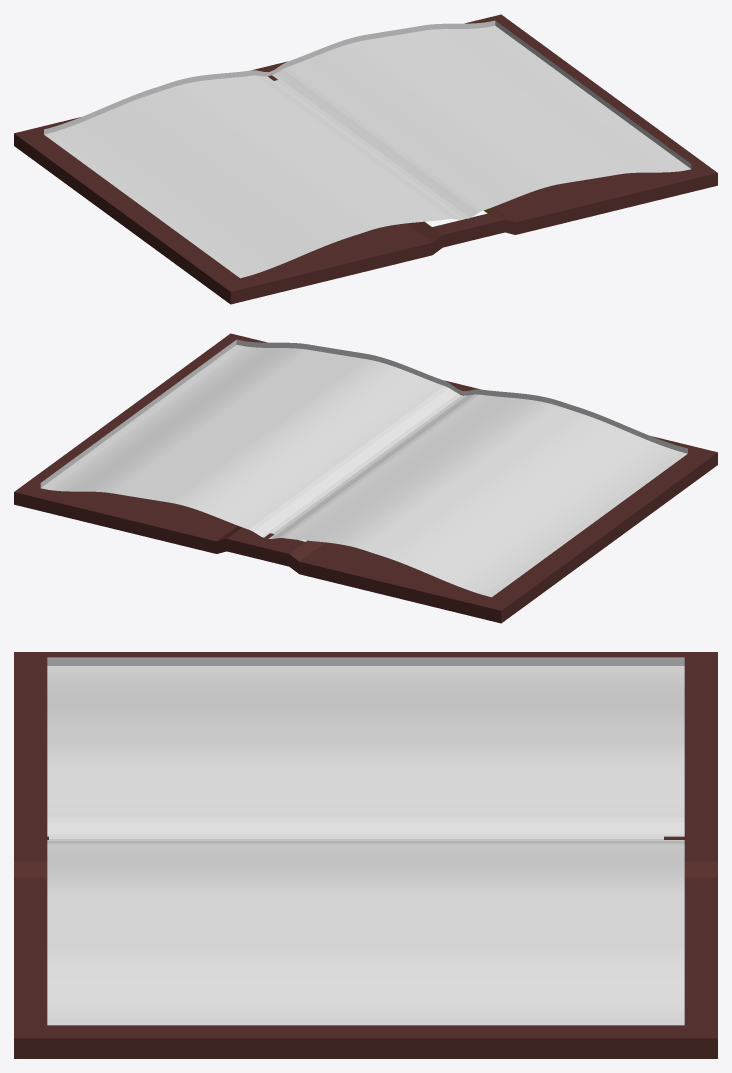
Rendered from book.glb.
3 views of the same model, one above another, from view 1: azimuth 30°, elevation 25°; view 2: azimuth 150°, elevation 25°; view 3: azimuth 270°, elevation 25° (orthographic). The views are drawn at different scales.
Visible parts, largest first — view 1: Cube, Book2_Open.002; view 2: Cube, Book2_Open.002; view 3: Cube, Book2_Open.002.
Part boxes in pixels (x1=…): Cube: x1=44, y1=20, x2=691, y2=278; Book2_Open.002: x1=14, y1=14, x2=717, y2=304; Cube: x1=40, y1=339, x2=687, y2=597; Book2_Open.002: x1=14, y1=333, x2=717, y2=623; Cube: x1=47, y1=657, x2=684, y2=1025; Book2_Open.002: x1=14, y1=652, x2=717, y2=1058.
Bounding box in the file's own units: 0.9012 × 0.0696 × 0.6939.
